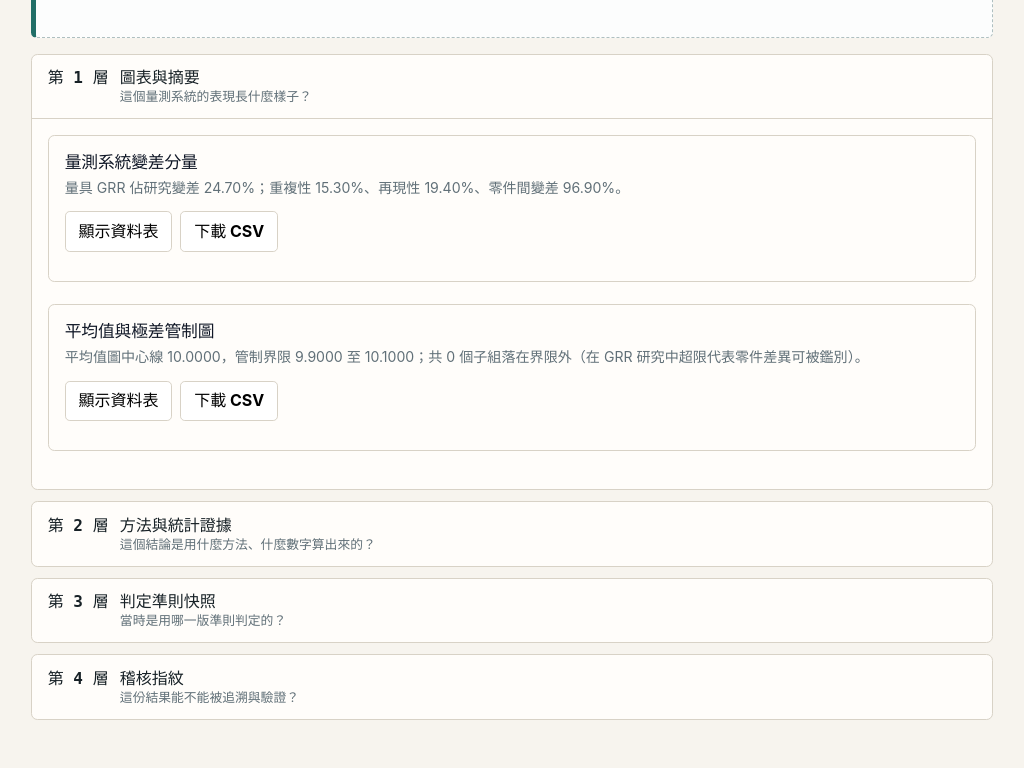
MSA 結果頁：證據分層 › 預設只展開第一層，其餘可自行展開
(page scrolled)
What coordinates should you click on to do the following:
click the button "第 4 層 稽核指紋 這份結果能不能被追溯與驗證？"
I would click on:
 (152, 678)
Its box is [32, 655, 992, 719].
(page scrolled)
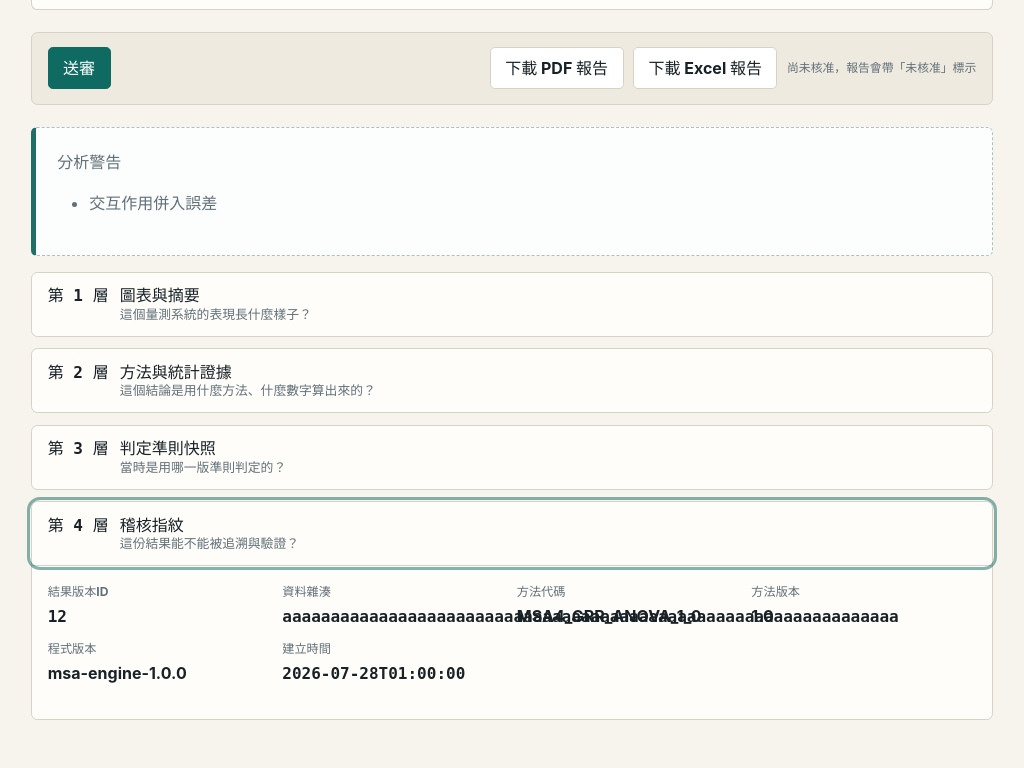
Expected: the button "第 4 層 稽核指紋 這份結果能不能被追溯與驗證？" is expanded, [32, 502, 992, 565]
